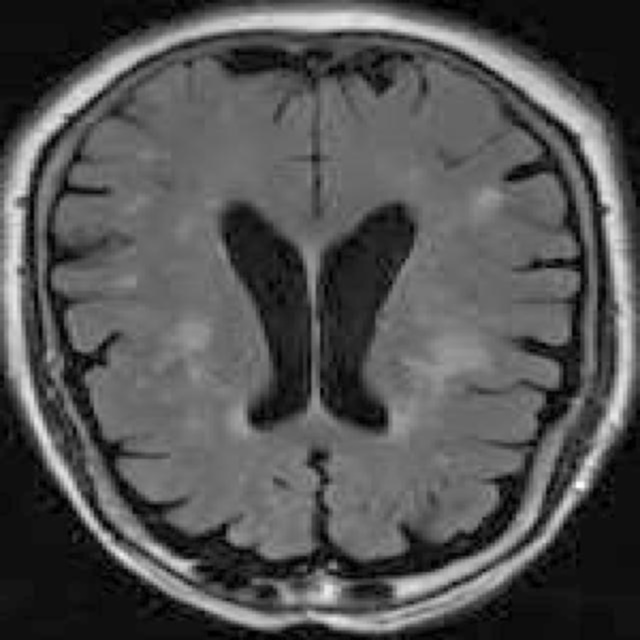glioma tumor: (72, 78, 542, 540)
